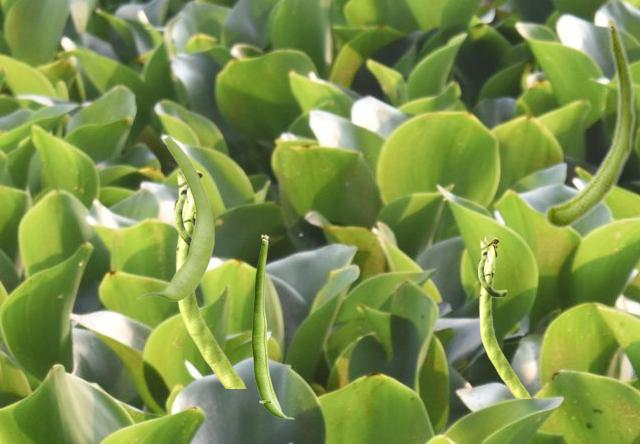french_bean: (543, 14, 636, 229), (173, 169, 245, 387), (136, 134, 214, 300), (477, 235, 530, 397), (251, 234, 294, 418)
